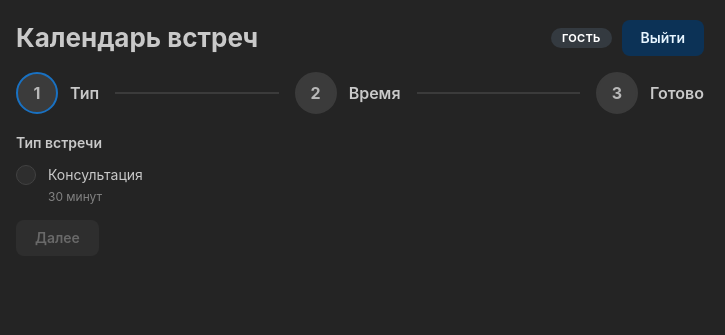
Scenario: календарь встреч › ошибка выхода показывается над видом, сессия не теряется
The image size is (725, 335).
Click the button "Выйти". click: (663, 38)
box: [622,20,704,56]
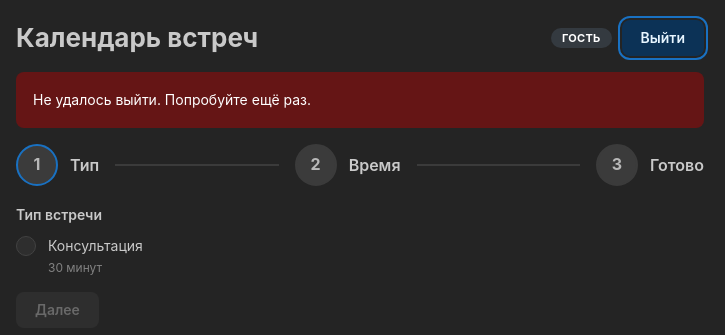
Expected: the text "Гость" is shown, [562,29,601,47]
Expected: the message reads "Не удалось выйти. Попробуйте ещё раз.", [33,91,311,108]
